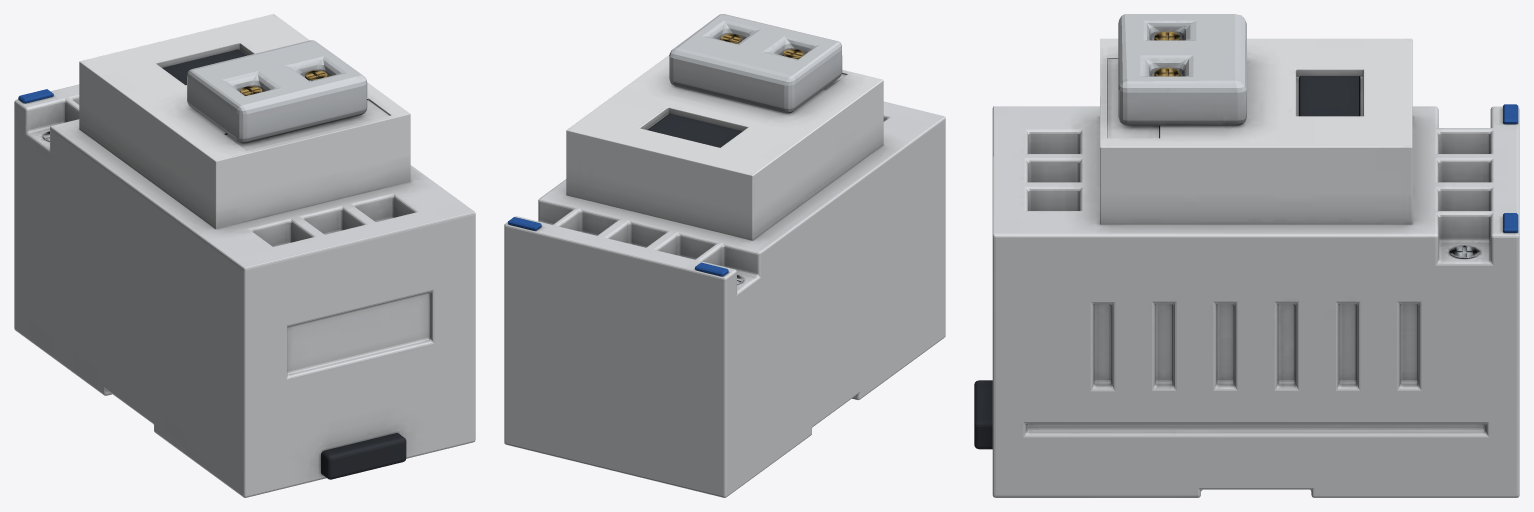
File: contactor.glb
3 views of the same model, side by side, from view 1: azimuth 30°, elevation 25°; view 2: azimuth 150°, elevation 25°; view 3: azimuth 270°, elevation 25° (orthographic). The views are drawn at different scales.
Visible parts, largest first — view 1: Contactor; view 2: Contactor; view 3: Contactor.
Part boxes in pixels (x1,y1,x2,y2): Contactor: (14,14,475,497); Contactor: (504,14,945,497); Contactor: (974,14,1519,497).
Size of the model in its own units: 1 by 1.39 by 1.78.
7 materials, 7 textured.
